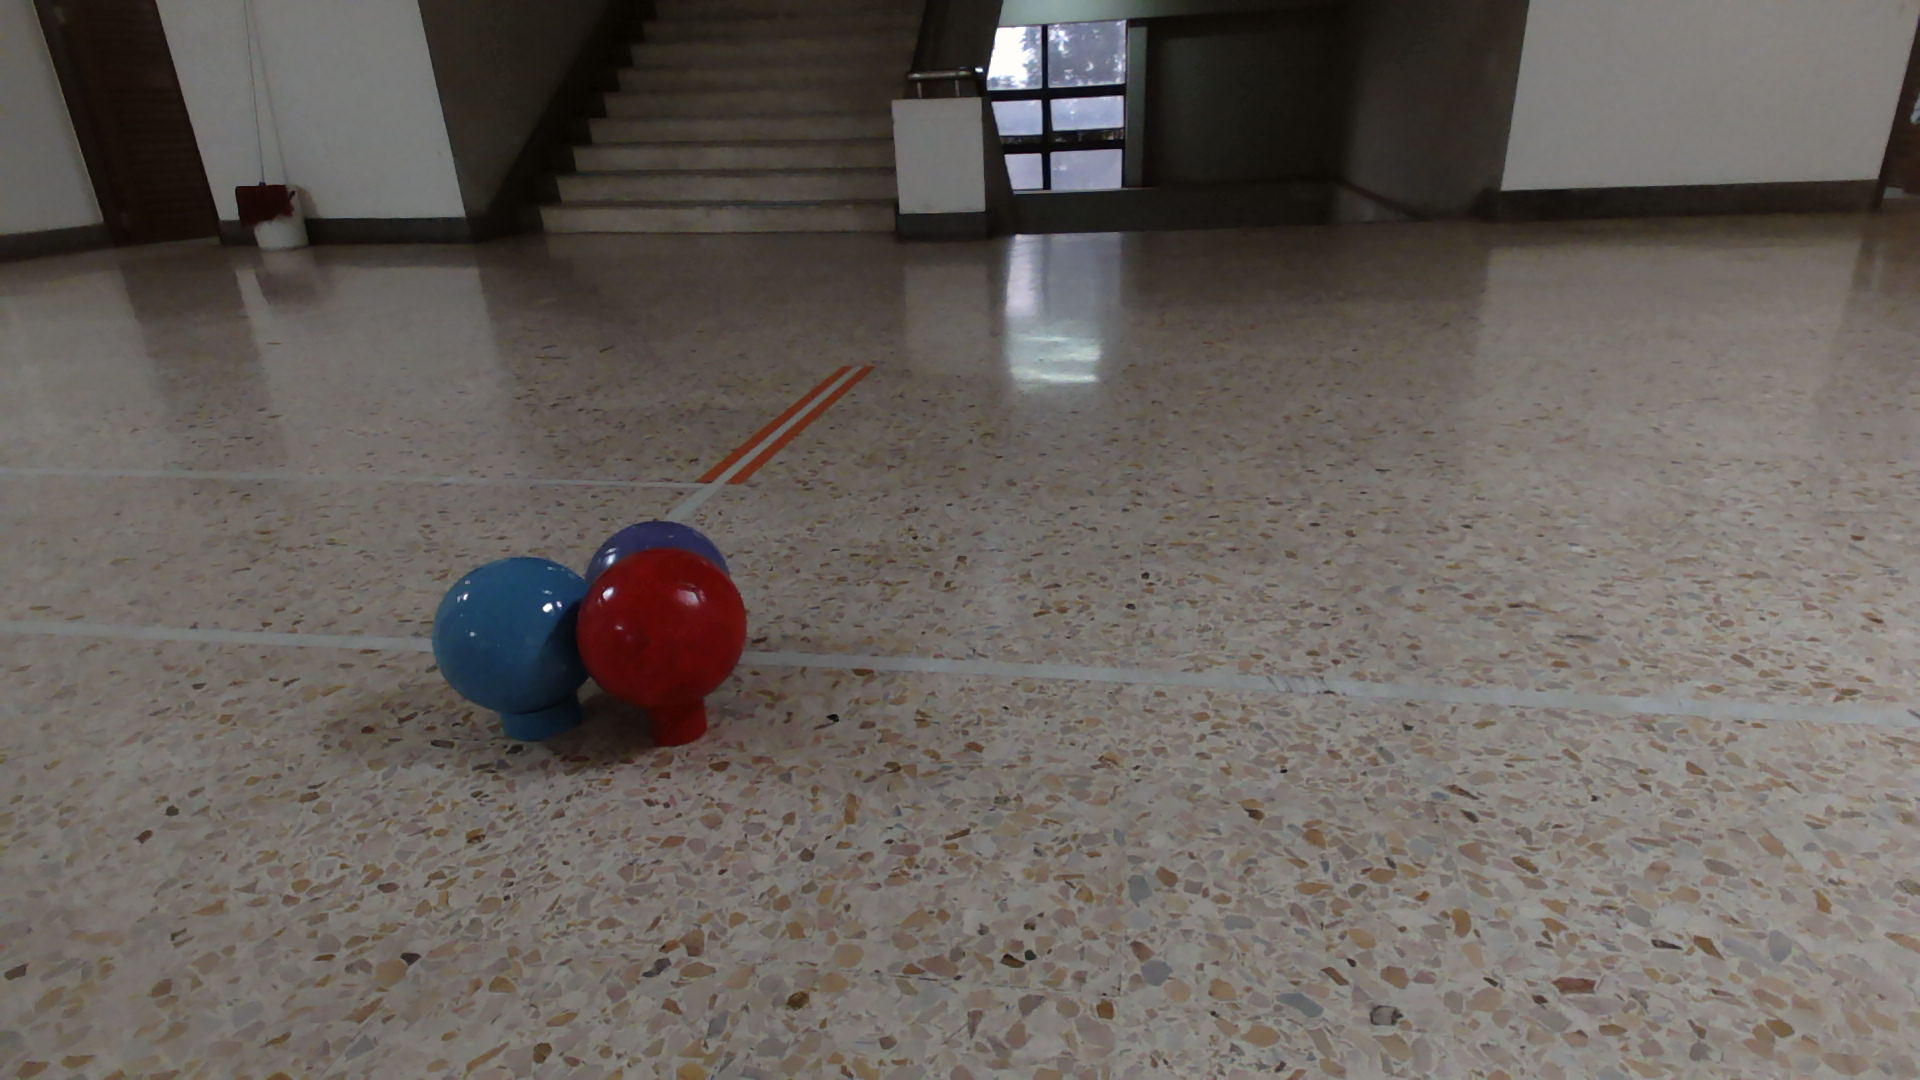Blue ball: (430, 554, 593, 715)
Purple ball: (585, 517, 731, 558)
Red ball: (575, 546, 749, 709)
